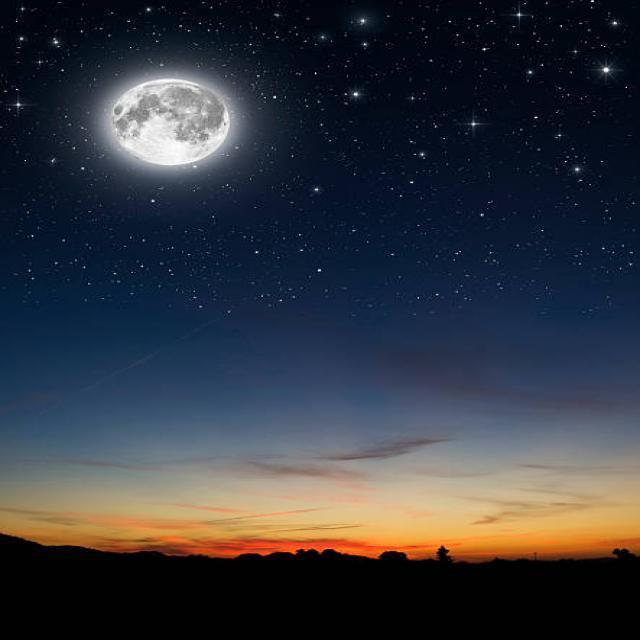moon: (80, 79, 230, 172)
